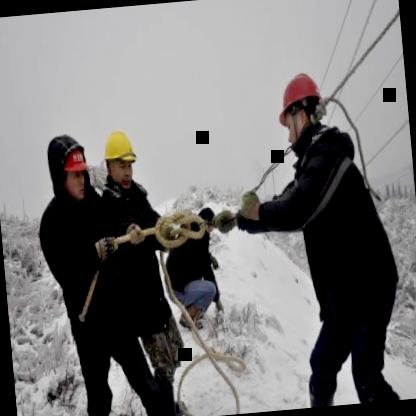head: (196, 202, 221, 238)
helmet: (270, 61, 330, 151), (98, 121, 140, 192), (58, 141, 92, 202)
